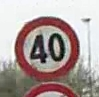limite 40: (13, 15, 81, 78)
